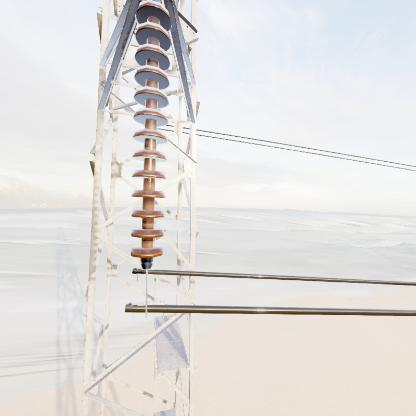insulator: (127, 1, 175, 272)
